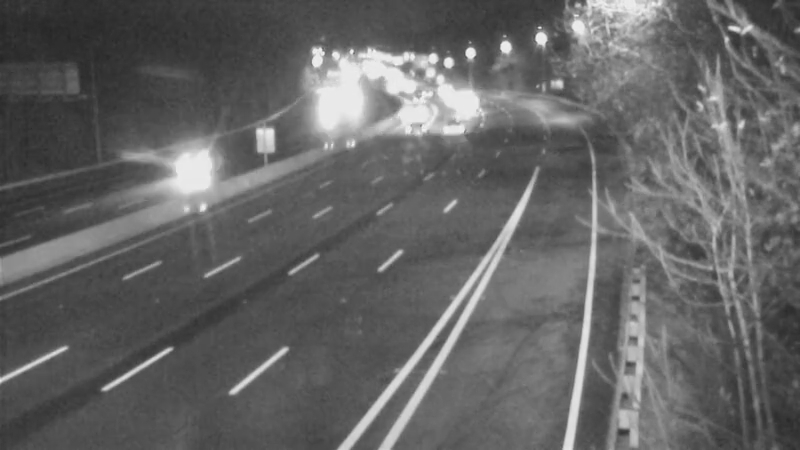vehicle: (147, 139, 227, 219), (420, 62, 470, 112), (397, 67, 447, 117), (432, 74, 482, 124), (384, 74, 434, 124), (441, 75, 491, 125), (444, 88, 494, 138), (381, 84, 431, 134), (427, 103, 477, 153), (394, 103, 444, 153)
